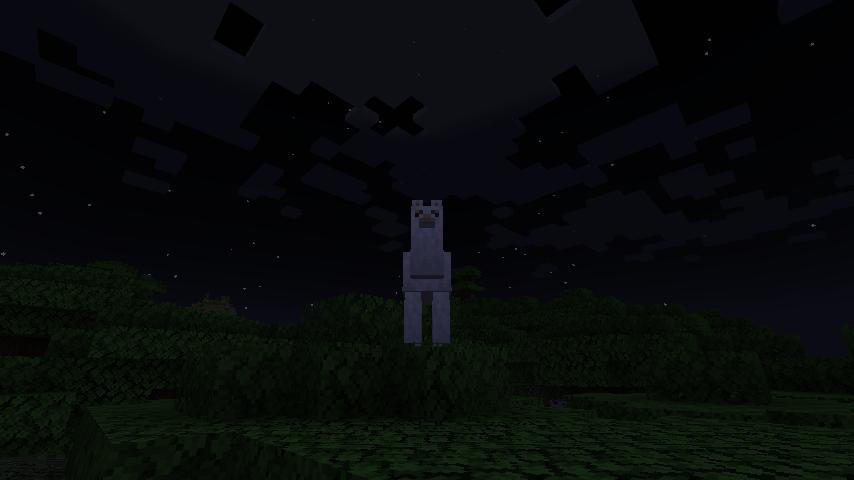llama: (398, 193, 458, 350)
